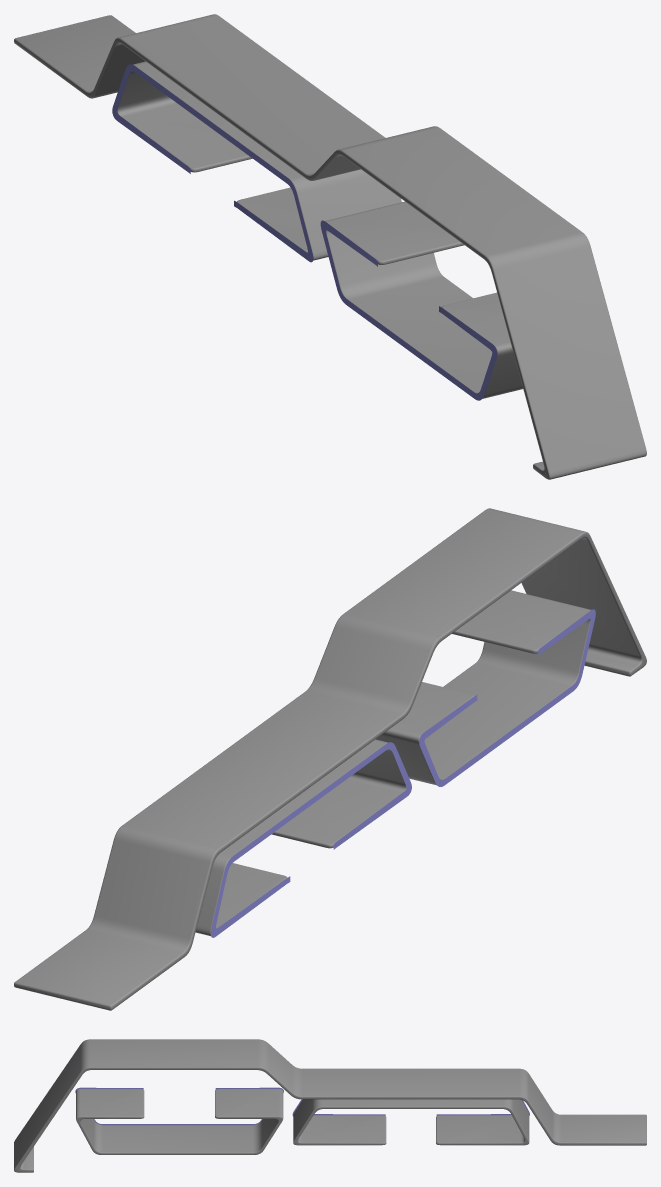
3 views of the same model, one above another, from view 1: azimuth 30°, elevation 25°; view 2: azimuth 150°, elevation 25°; view 3: azimuth 270°, elevation 25° (orthographic). The views are drawn at different scales.
Visible parts, largest first — view 1: LineAZ, ZZ_Aw, ZFGGG; view 2: LineAZ, ZZ_Aw, ZFGGG; view 3: LineAZ, ZZ_Aw, ZFGGG.
Boxes of the visible parts, x1,y1,x2,y2 form: LineAZ: (14,14,646,479); ZZ_Aw: (117,61,523,398); ZFGGG: (112,64,497,400); LineAZ: (14,508,646,1010); ZZ_Aw: (195,590,590,936); ZFGGG: (211,609,595,937); LineAZ: (14,1039,646,1172); ZZ_Aw: (76,1089,529,1154); ZFGGG: (75,1087,529,1125).
Bounding box in the file's own units: 433 × 750 × 4075.
